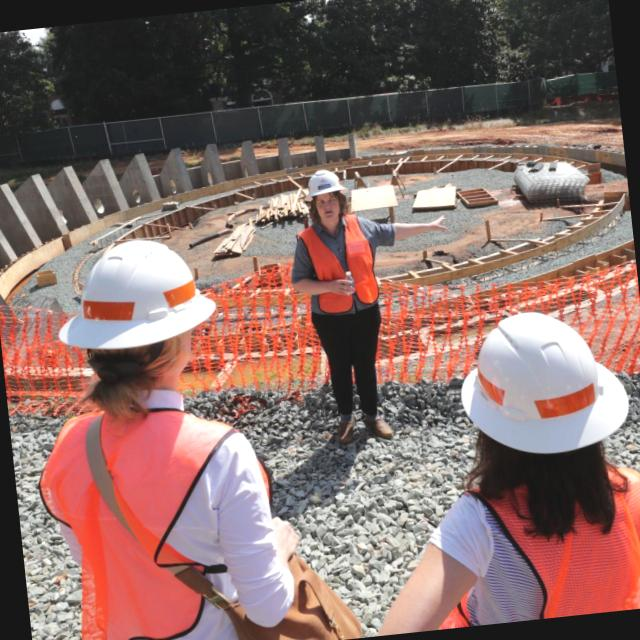helmet: (441, 289, 640, 462), (44, 219, 221, 351), (296, 160, 346, 206)
vest: (42, 398, 267, 640), (449, 451, 640, 621), (284, 216, 385, 331)
